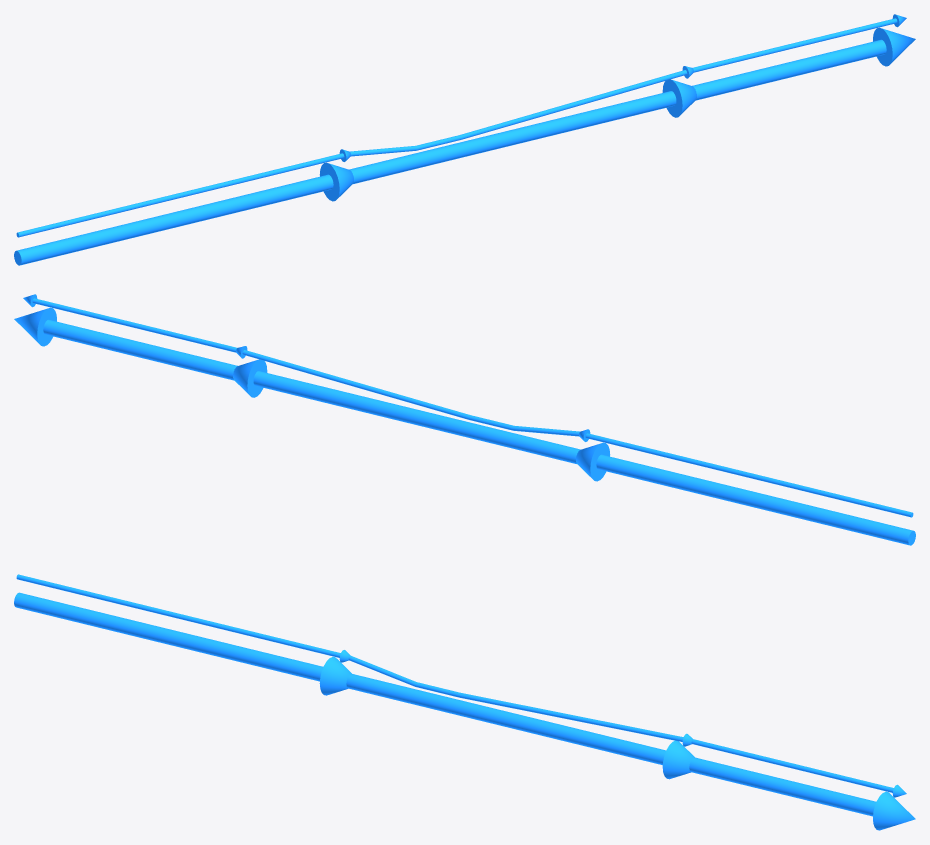
The model's file is venturi_tube_flow.glb.
3 views of the same model, one above another, from view 1: azimuth 30°, elevation 25°; view 2: azimuth 150°, elevation 25°; view 3: azimuth 330°, elevation 25° (orthographic).
Parts seen in each view (by area): view 1: flow, edge; view 2: flow, edge; view 3: flow, edge.
Part boxes in pixels (left/top/right/bottom): flow: left=14, top=27, right=915, bottom=265; edge: left=16, top=14, right=906, bottom=237; flow: left=14, top=307, right=915, bottom=545; edge: left=23, top=294, right=913, bottom=517; flow: left=14, top=592, right=915, bottom=830; edge: left=16, top=574, right=906, bottom=797.
Bounding box in the file's own units: 1.62 × 0.0816 × 0.0624.
